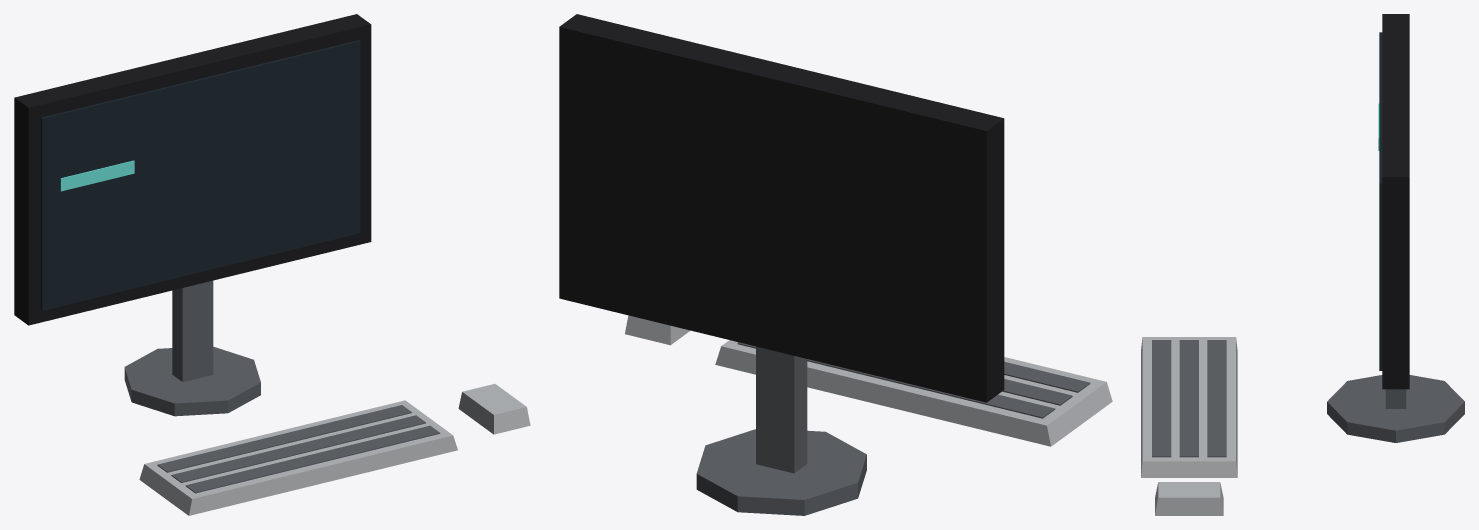
The model's file is GO_Workstation_01.glb.
3 views of the same model, side by side, from view 1: azimuth 30°, elevation 25°; view 2: azimuth 150°, elevation 25°; view 3: azimuth 270°, elevation 25° (orthographic). The views are drawn at different scales.
Parts seen in each view (by area): view 1: GO_Workstation_01; view 2: GO_Workstation_01; view 3: GO_Workstation_01.
Part boxes in pixels (x1=…): GO_Workstation_01: x1=14, y1=14, x2=530, y2=515; GO_Workstation_01: x1=559, y1=14, x2=1112, y2=515; GO_Workstation_01: x1=1141, y1=14, x2=1464, y2=515.
Size of the model in its own units: 0.63 by 0.51 by 0.47.
Materials: 1 (1 with a texture image).
